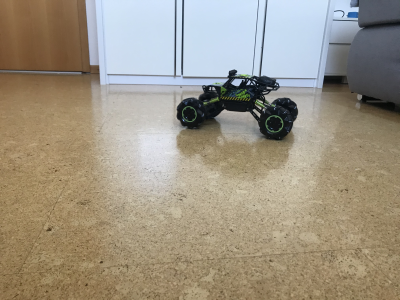remote control car: (174, 67, 300, 141)
